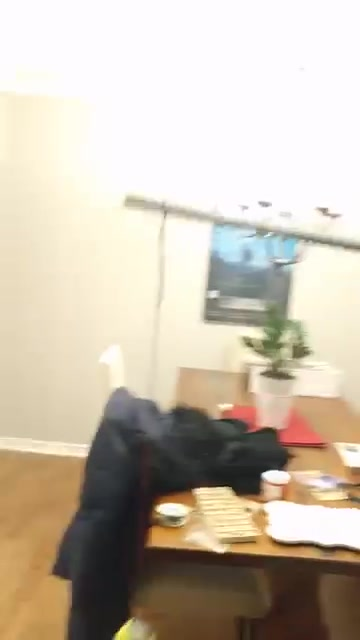tennis_ball: (108, 613, 160, 640)
